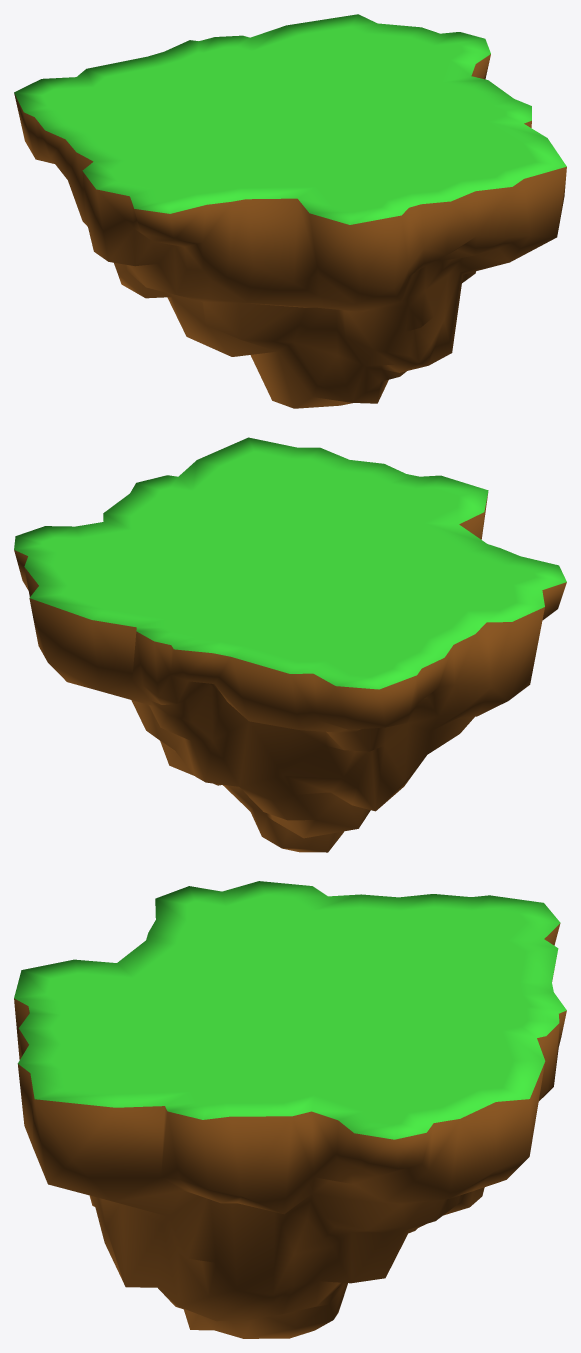
Rendered from TexRock2.fbx.
3 renders of one model, top to bottom at view 1: azimuth 30°, elevation 25°; view 2: azimuth 150°, elevation 25°; view 3: azimuth 270°, elevation 25°, orthographic. The views are drawn at different scales.
Visible parts, largest first — view 1: Rock1.001; view 2: Rock1.001; view 3: Rock1.001.
Boxes of the visible parts, x1,y1,x2,y2 form: Rock1.001: (14, 14, 566, 408); Rock1.001: (14, 437, 566, 852); Rock1.001: (14, 881, 566, 1338).
Size of the model in its own units: 929 by 552 by 839.
